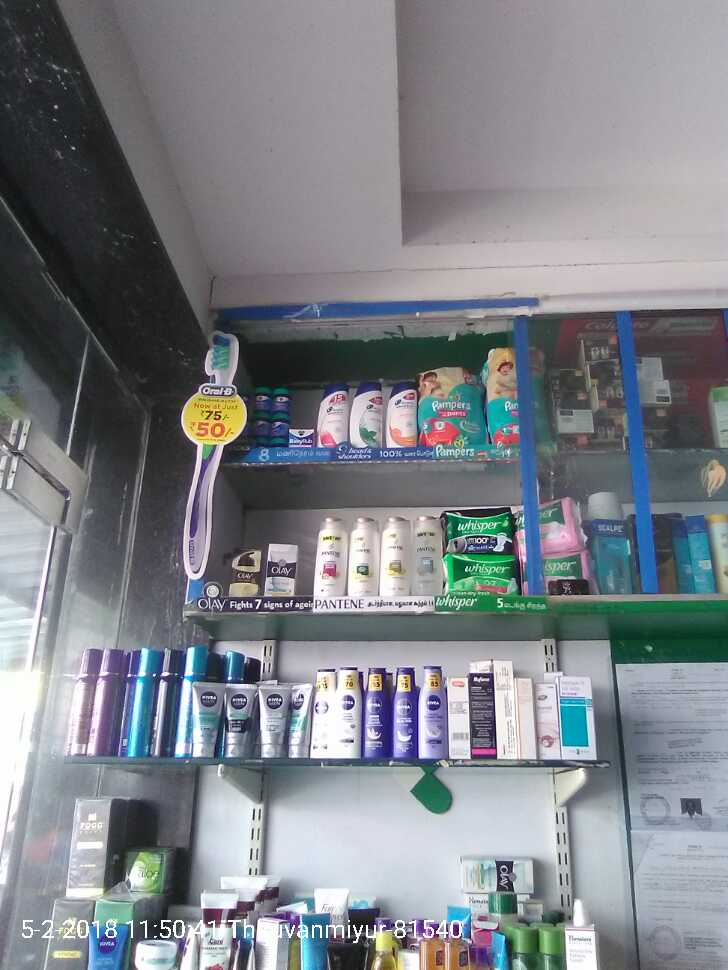vicks: (242, 388, 318, 452)
